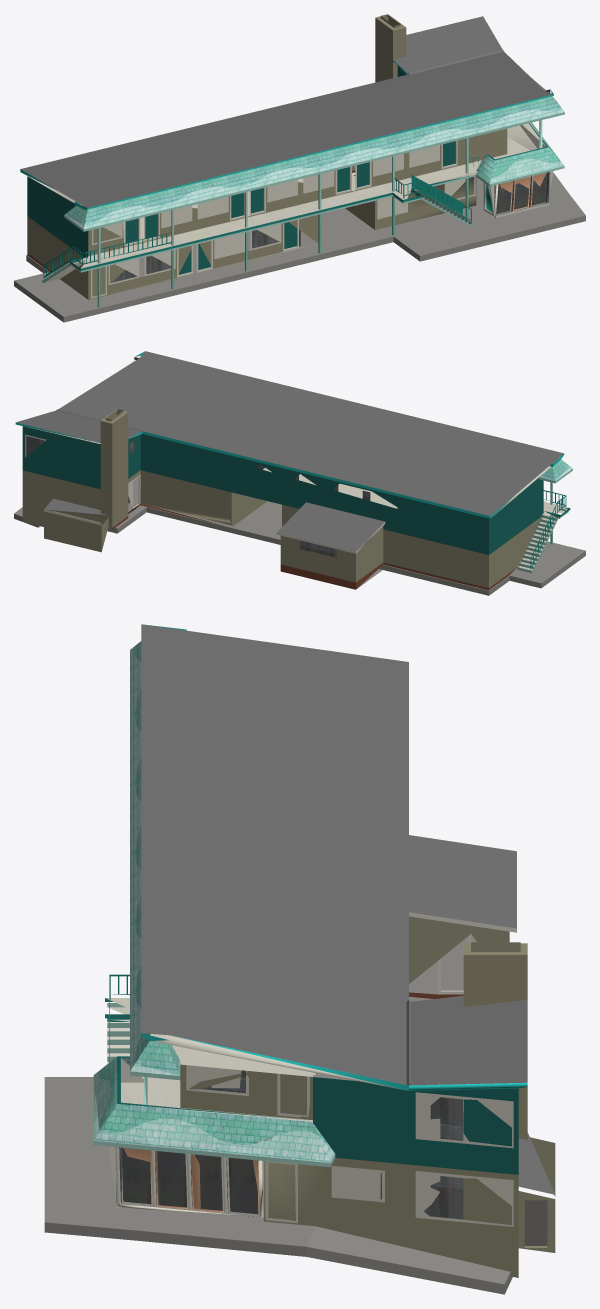
The model's file is roadside-motel.lod1.glb.
The picture shows the model from 3 angles, top to bottom: view 1: azimuth 30°, elevation 25°; view 2: azimuth 150°, elevation 25°; view 3: azimuth 270°, elevation 25°; orthographic projection. The views are drawn at different scales.
Parts seen in each view (by area): view 1: Object_6, Object_5, Object_11, Object_10, Object_4, Object_8; view 2: Object_6, Object_4, Object_5, Object_11, Object_8, Object_10; view 3: Object_6, Object_5, Object_11, Object_8, Object_10, Object_4.
Part boxes in pixels (x1,y1,x2,y2): Object_6: [14, 14, 585, 322]; Object_5: [24, 77, 553, 298]; Object_11: [42, 105, 564, 282]; Object_10: [64, 96, 560, 307]; Object_4: [20, 60, 553, 278]; Object_8: [111, 89, 550, 282]; Object_6: [14, 351, 585, 595]; Object_4: [15, 351, 570, 590]; Object_5: [25, 356, 569, 570]; Object_11: [517, 461, 572, 573]; Object_8: [26, 357, 401, 557]; Object_10: [539, 459, 569, 543]; Object_6: [44, 624, 555, 1294]; Object_5: [103, 893, 524, 1226]; Object_11: [93, 646, 335, 1167]; Object_8: [119, 1070, 463, 1219]; Object_10: [99, 641, 334, 1152]; Object_4: [105, 624, 527, 1214].
Size of the model in its own units: 37.03 by 9.34 by 17.02.
6 materials, 5 textured.
